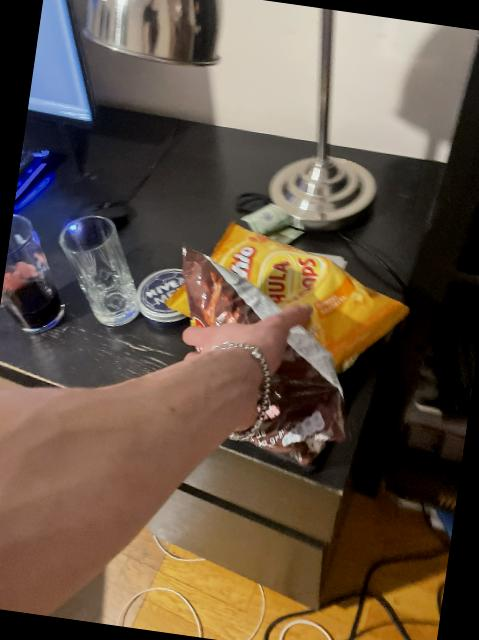Chio Hula Hoops Cheese 70g: (166, 216, 408, 380)
Lays Beef Grilled Ribs 125g: (150, 244, 370, 476)
